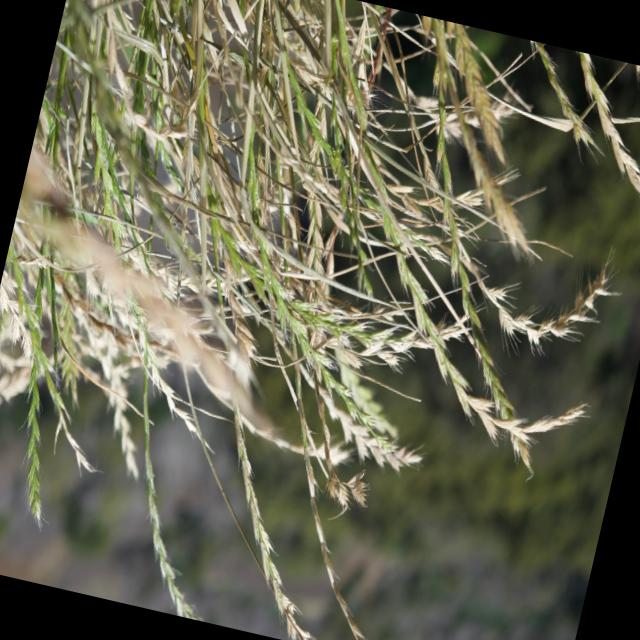Lolium: (23, 0, 520, 483), (278, 3, 640, 475), (215, 292, 442, 640), (86, 348, 250, 614), (180, 386, 350, 634), (0, 239, 98, 530)
